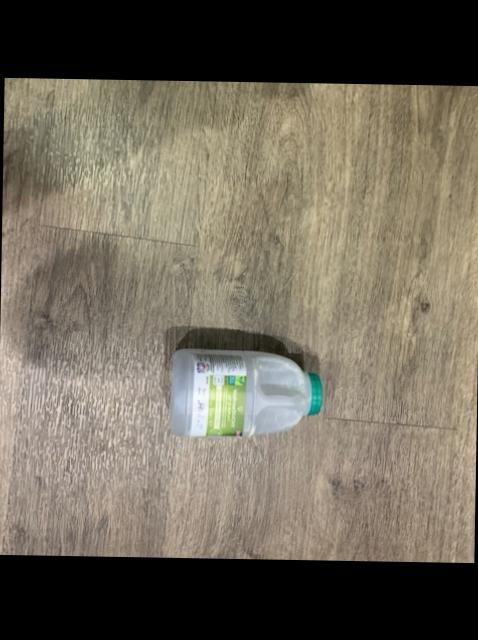plastic: (172, 348, 323, 435)
